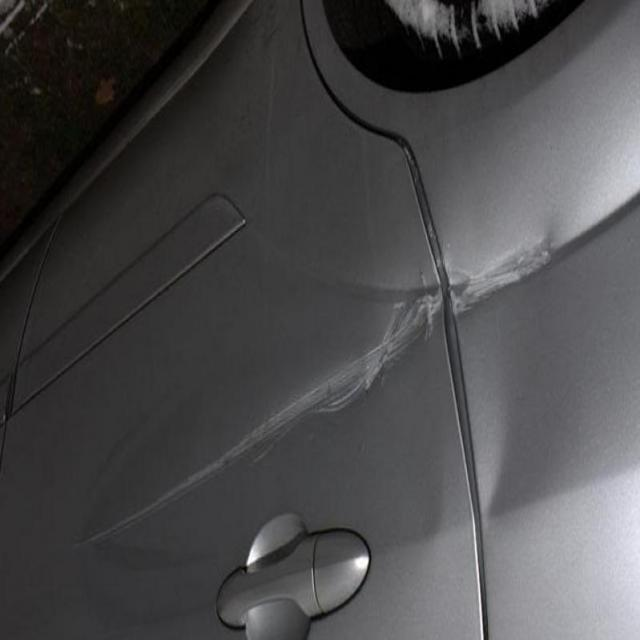scratch: (303, 191, 590, 439)
